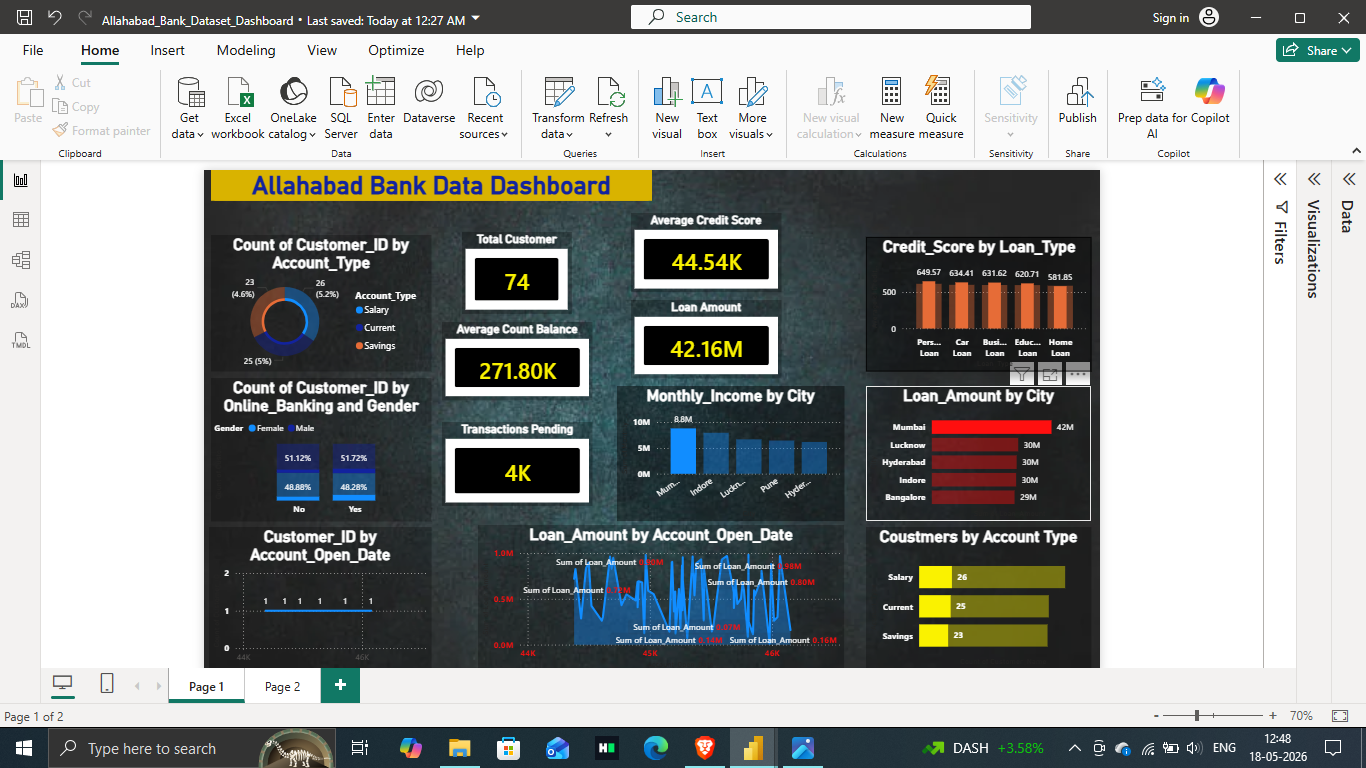

The dashboard page shown, as its layout file describes it:
{"tool":"powerbi","page":{"name":"Page 1","canvas":[1280,720],"ordinal":0},"visuals":[{"type":"textbox","title":"Allahabad Bank Data Dashboard","box":[10.1,0,629.9,43.7],"z":0},{"type":"clusteredBarChart","title":" Loan_Amount by City","fields":{"Category":["BankData.City"],"Y":["Sum(BankData.Loan_Amount)"]},"box":[930,316.7,321.7,193.3],"z":1},{"type":"clusteredBarChart","title":"Coustmers by Account Type","fields":{"Category":["BankData.Account_Type"],"Y":["CountNonNull(BankData.Customer_Name)"]},"box":[930,516.7,321.7,203.3],"z":2},{"type":"clusteredColumnChart","title":"Monthly_Income by City","fields":{"Category":["BankData.City"],"Y":["Sum(BankData.Monthly_Income)"]},"box":[590,286.7,325,203.3],"z":3},{"type":"clusteredColumnChart","title":" Credit_Score by Loan_Type","fields":{"Category":["BankData.Loan_Type"],"Y":["Avg(BankData.Credit_Score)"]},"box":[930,113.3,321.7,191.7],"z":4},{"type":"hundredPercentStackedColumnChart","fields":{"Series":["BankData.Gender"],"Category":["BankData.Online_Banking"],"Y":["CountNonNull(BankData.Customer_ID)"]},"box":[0,405,325,150],"z":5},{"type":"donutChart","fields":{"Category":["BankData.Account_Type"],"Y":["CountNonNull(BankData.Customer_ID)"]},"box":[6.7,188.3,318.3,195],"z":6},{"type":"lineChart","title":"Customer_ID by Account_Open_Date","fields":{"Category":["BankData.Account_Open_Date"],"Y":["CountNonNull(BankData.Customer_ID)"]},"box":[0,571.7,325,148.3],"z":7},{"type":"areaChart","title":" Loan_Amount by Account_Open_Date","fields":{"Y":["Sum(BankData.Loan_Amount)"],"Category":["BankData.Account_Open_Date"]},"box":[378.3,510,523.3,210],"z":8},{"type":"cardVisual","title":"Total Customer","fields":{"Data":["Count(BankData.Customer_ID)"]},"box":[378.3,113.3,136.7,90],"z":9},{"type":"cardVisual","title":"Loan Amount","fields":{"Data":["Sum(BankData.Loan_Amount)"]},"box":[610,188.3,215,90],"z":10},{"type":"cardVisual","title":"Average Count Balance","fields":{"Data":["Avg(BankData.Account_Balance)"]},"box":[338.3,260,215,90],"z":11},{"type":"cardVisual","title":"Average Credit Score","fields":{"Data":["Sum(BankData.Average_Cerdit_Score)"]},"box":[610,83.3,215,90],"z":12},{"type":"cardVisual","title":"Transactions Pending","fields":{"Data":["Sum(BankData.Transactions_Per_Month)"]},"box":[338.3,390,215,90],"z":13}]}

Visuals, with their boxes on the page's 1280x720 design canvas (x1, y1, x2, y2). These are canvas units, not pixel positions in the 1366x768 screenshot, which may show the page scaled, cropped or inside an application window:
"Allahabad Bank Data Dashboard" textbox: box=[10, 0, 640, 44]
" Loan_Amount by City" clusteredBarChart: box=[930, 317, 1252, 510]
"Coustmers by Account Type" clusteredBarChart: box=[930, 517, 1252, 720]
"Monthly_Income by City" clusteredColumnChart: box=[590, 287, 915, 490]
" Credit_Score by Loan_Type" clusteredColumnChart: box=[930, 113, 1252, 305]
hundredPercentStackedColumnChart - BankData.Gender x BankData.Online_Banking: box=[0, 405, 325, 555]
donutChart - BankData.Account_Type x CountNonNull(BankData.Customer_ID): box=[7, 188, 325, 383]
"Customer_ID by Account_Open_Date" lineChart: box=[0, 572, 325, 720]
" Loan_Amount by Account_Open_Date" areaChart: box=[378, 510, 902, 720]
"Total Customer" cardVisual: box=[378, 113, 515, 203]
"Loan Amount" cardVisual: box=[610, 188, 825, 278]
"Average Count Balance" cardVisual: box=[338, 260, 553, 350]
"Average Credit Score" cardVisual: box=[610, 83, 825, 173]
"Transactions Pending" cardVisual: box=[338, 390, 553, 480]
